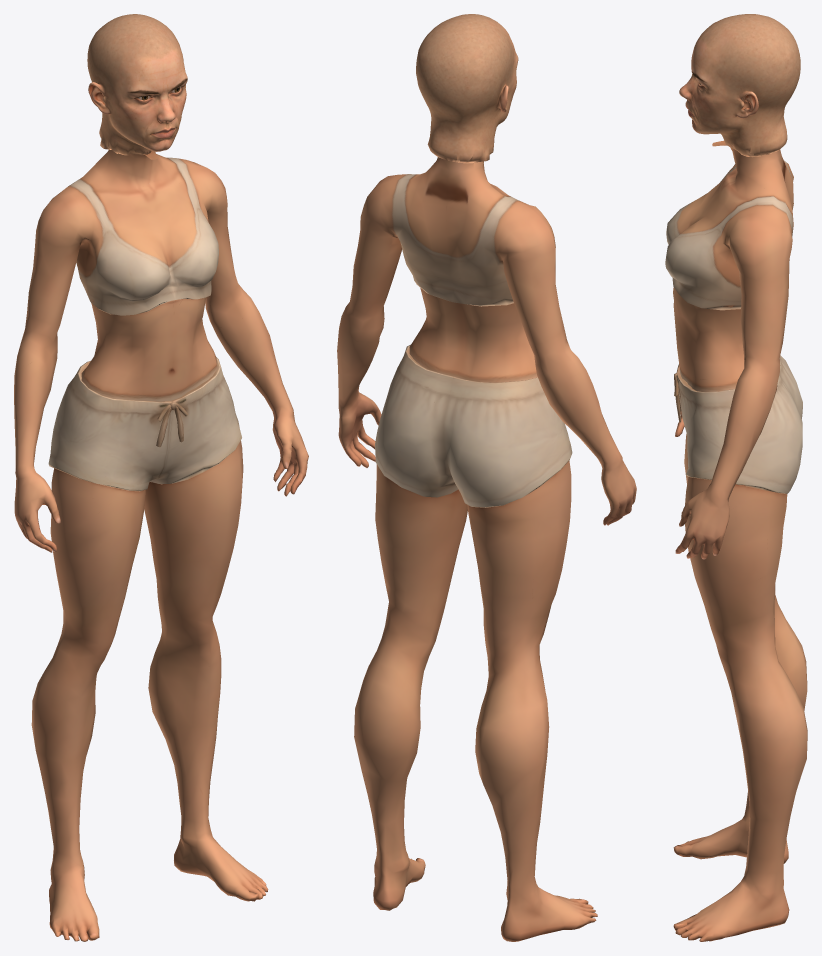
Rendered from koerper-neukopf.glb.
3 views of the same model, side by side, from view 1: azimuth 30°, elevation 25°; view 2: azimuth 150°, elevation 25°; view 3: azimuth 270°, elevation 25° (orthographic). The views are drawn at different scales.
Visible parts, largest first — view 1: koerper; view 2: koerper; view 3: koerper.
Part boxes in pixels (x1,y1,x2,y2): koerper: (14, 14, 308, 941); koerper: (337, 14, 636, 941); koerper: (665, 14, 807, 941).
Size of the model in its own units: 0.6111 by 1.8 by 0.2673.
2 materials, 2 textured.
